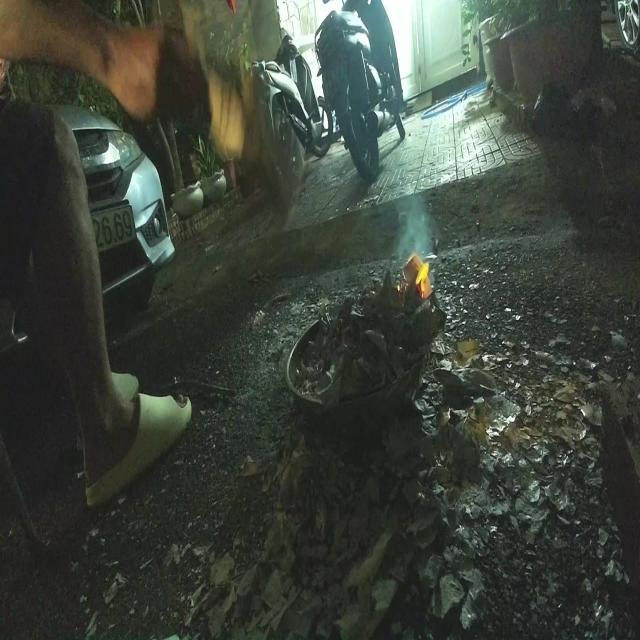Fire: (416, 261, 430, 297)
Smoke: (395, 192, 434, 263)
